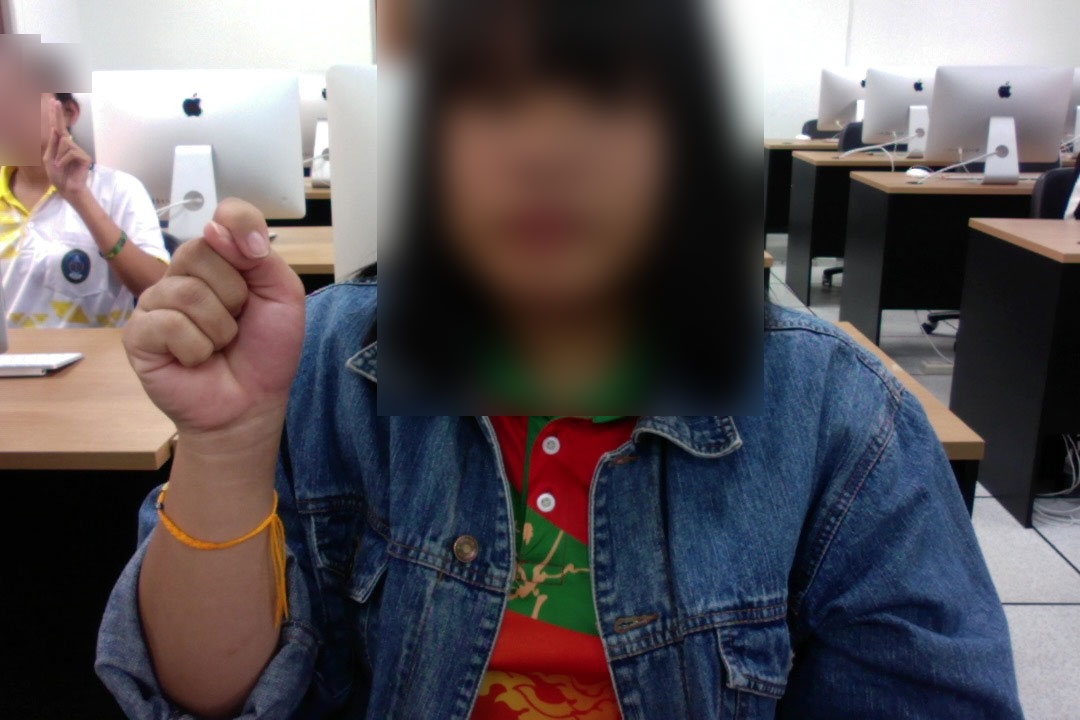tor: (107, 184, 324, 487)
